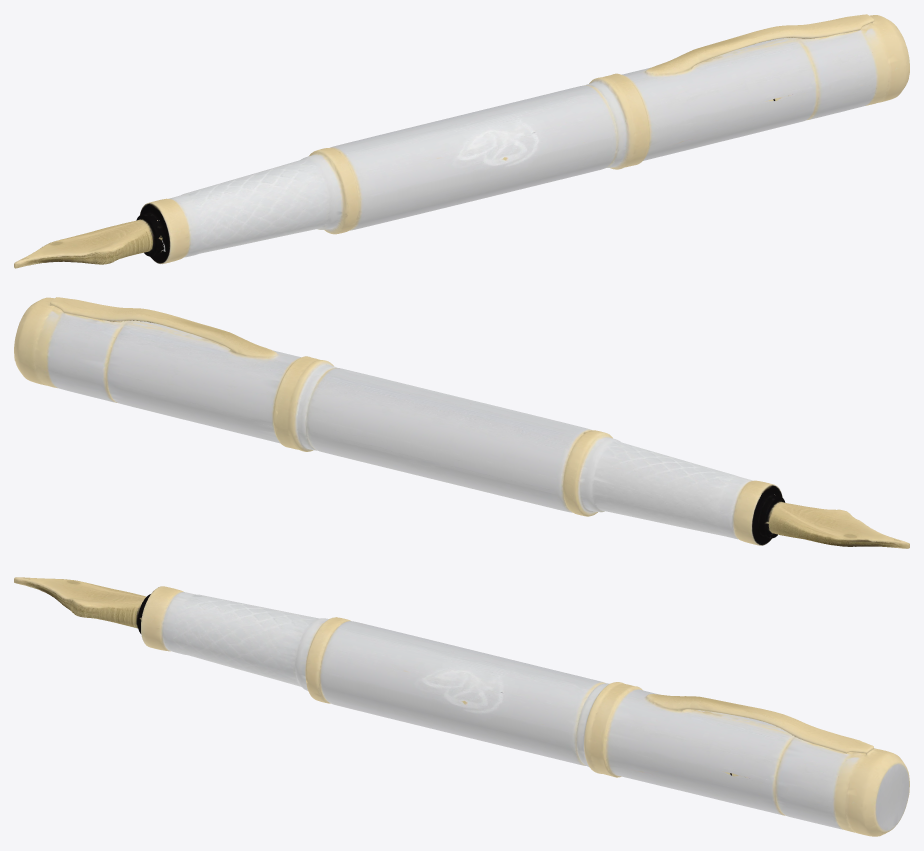
The model's file is golden-pen-opt.glb.
3 renders of one model, top to bottom at view 1: azimuth 30°, elevation 25°; view 2: azimuth 150°, elevation 25°; view 3: azimuth 330°, elevation 25°, orthographic.
Size of the model in its own units: 1.9 by 0.1996 by 0.1753.
1 material, 1 textured.
